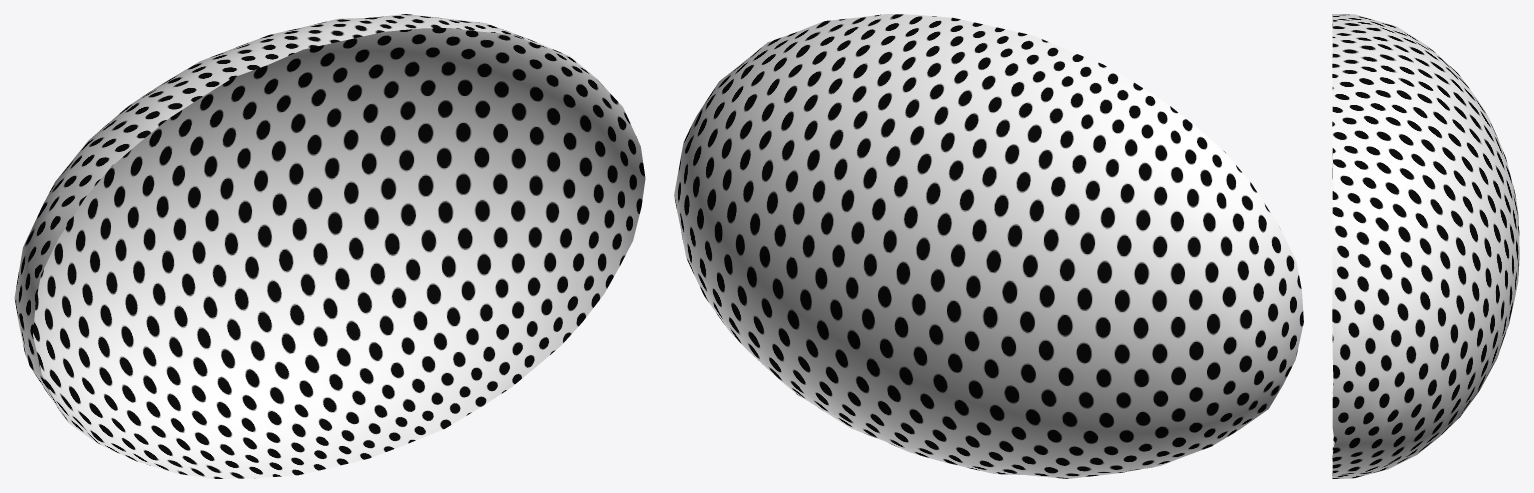
The model's file is texture_bubble.obj.
The picture shows the model from 3 angles, left to right: view 1: azimuth 30°, elevation 25°; view 2: azimuth 150°, elevation 25°; view 3: azimuth 270°, elevation 25°; orthographic projection. The views are drawn at different scales.
Bounding box in the file's own units: 0.1124 × 0.0746 × 0.0333.
Materials: 1 (1 with a texture image).
